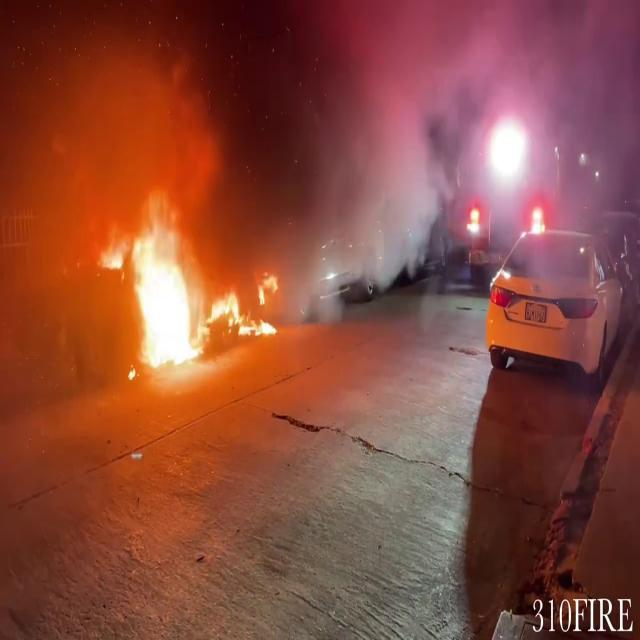Fire: (103, 202, 273, 376)
Smoke: (0, 5, 257, 362), (228, 0, 532, 288)
